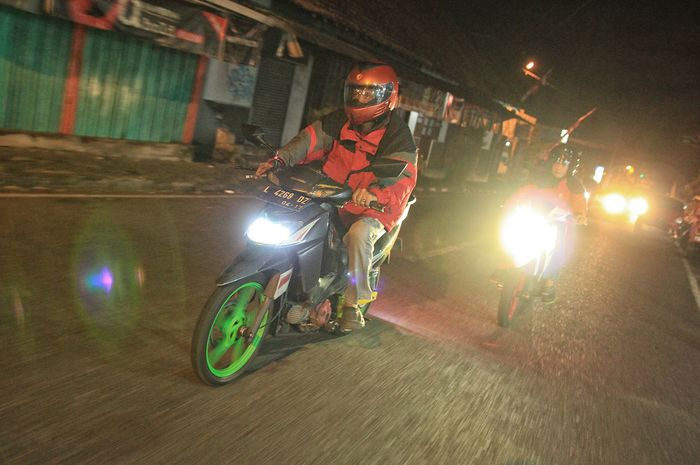plate: (257, 183, 312, 214)
